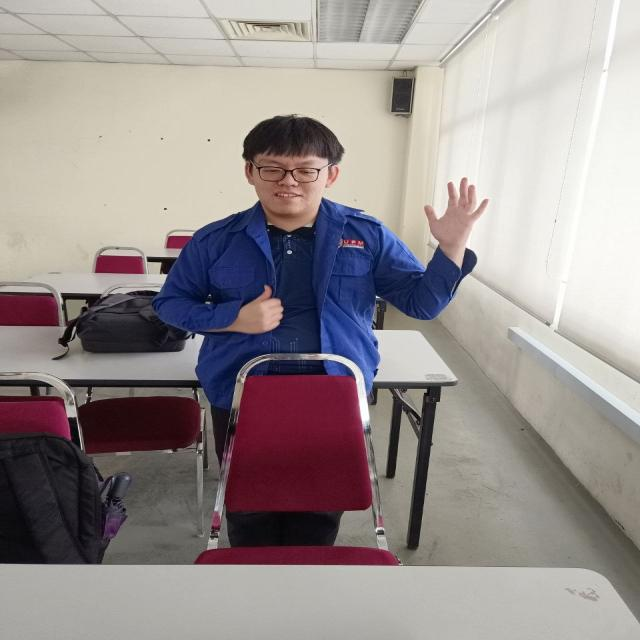person_with_labcoat: (153, 115, 488, 462)
